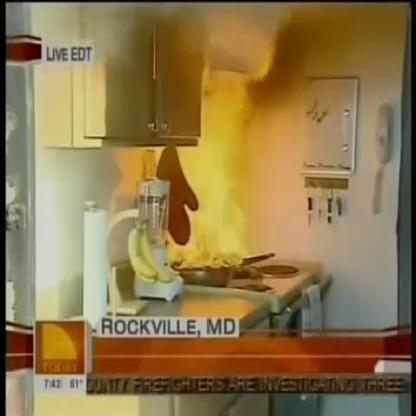fire: (181, 144, 245, 274)
